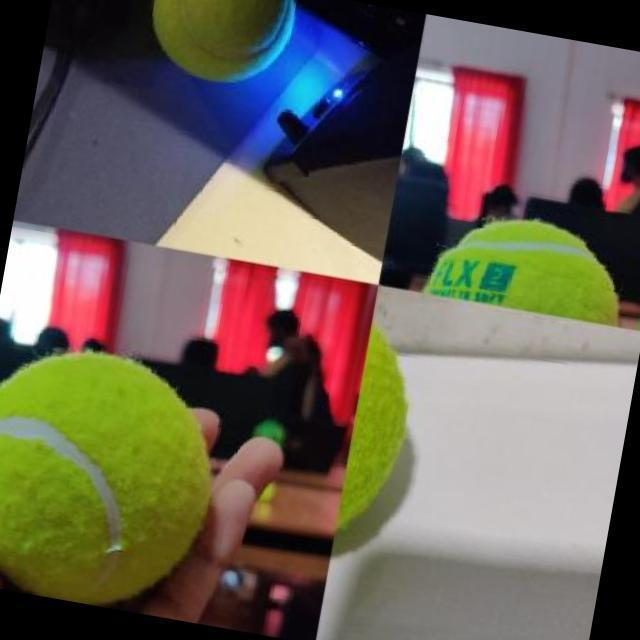-: (0, 316, 243, 611), (126, 0, 337, 109)
